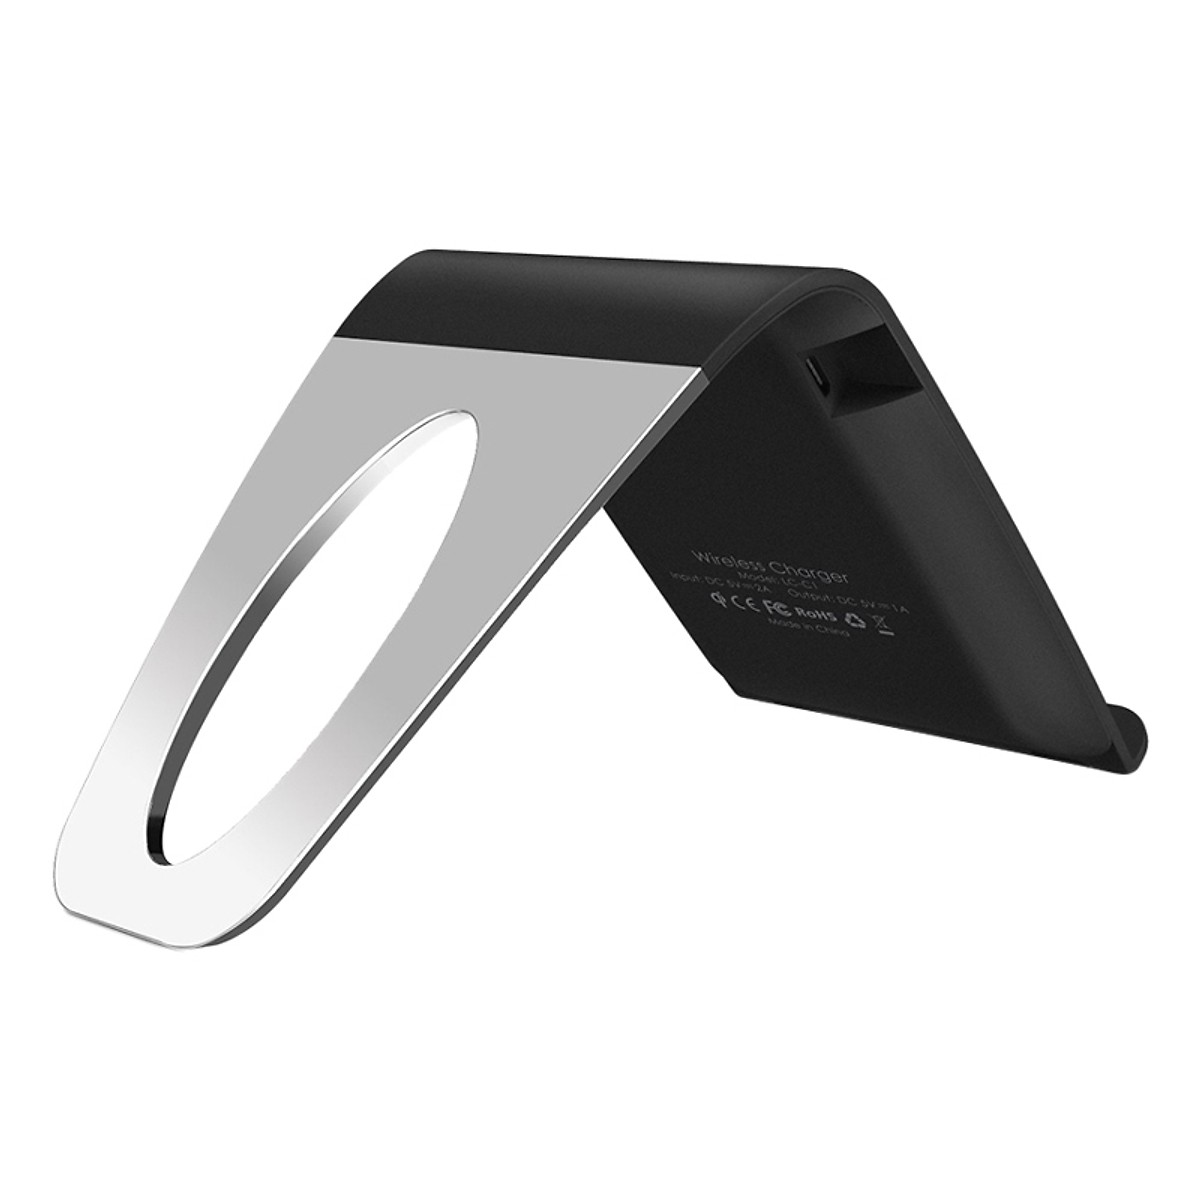Aukey: (641, 505, 1011, 734)
